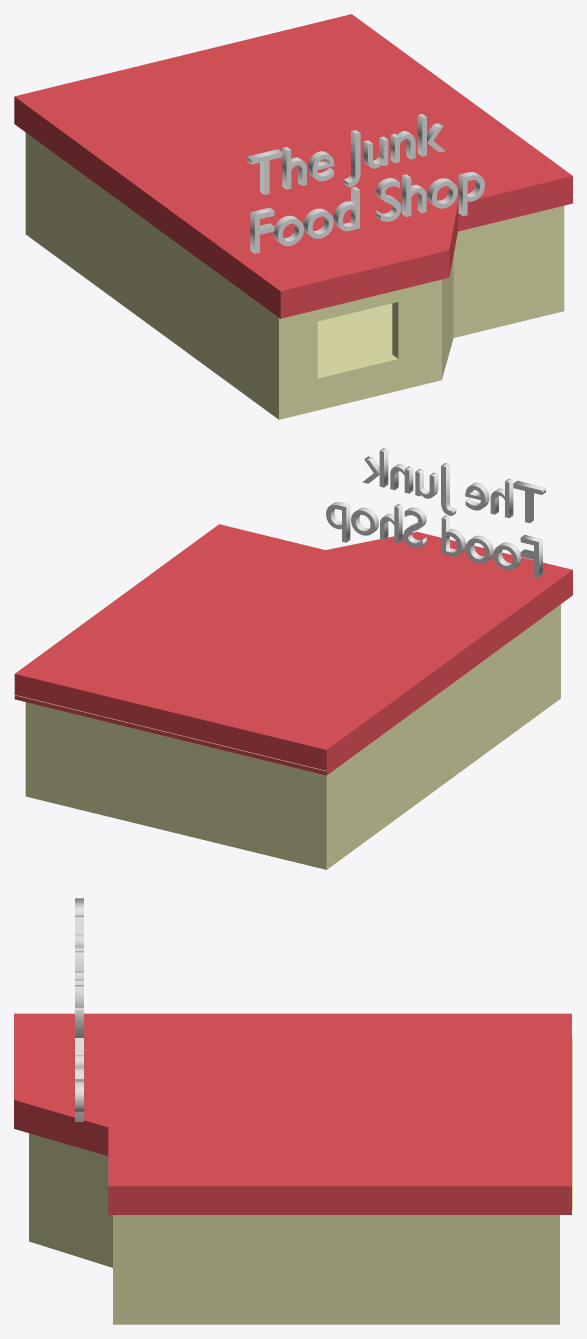
Rendered from Stage1.fbx.
The picture shows the model from 3 angles, top to bottom: view 1: azimuth 30°, elevation 25°; view 2: azimuth 150°, elevation 25°; view 3: azimuth 270°, elevation 25°; orthographic projection. The views are drawn at different scales.
Visible parts, largest first — view 1: Cube.001, Cube, Text; view 2: Cube.001, Cube, Text; view 3: Cube.001, Cube, Text.
Boxes of the visible parts, left/top/right/bottom form: Cube.001: left=14, top=14, right=572, bottom=318; Cube: left=25, top=132, right=564, bottom=419; Text: left=247, top=114, right=484, bottom=253; Cube.001: left=14, top=524, right=572, bottom=775; Cube: left=14, top=604, right=560, bottom=869; Text: left=326, top=448, right=545, bottom=577; Cube.001: left=14, top=1013, right=571, bottom=1214; Cube: left=29, top=1037, right=572, bottom=1324; Text: left=75, top=898, right=83, bottom=1121.
Size of the model in its own units: 3188 by 2214 by 4360.
